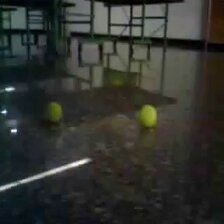tennis: (136, 104, 160, 130), (44, 101, 62, 124)
